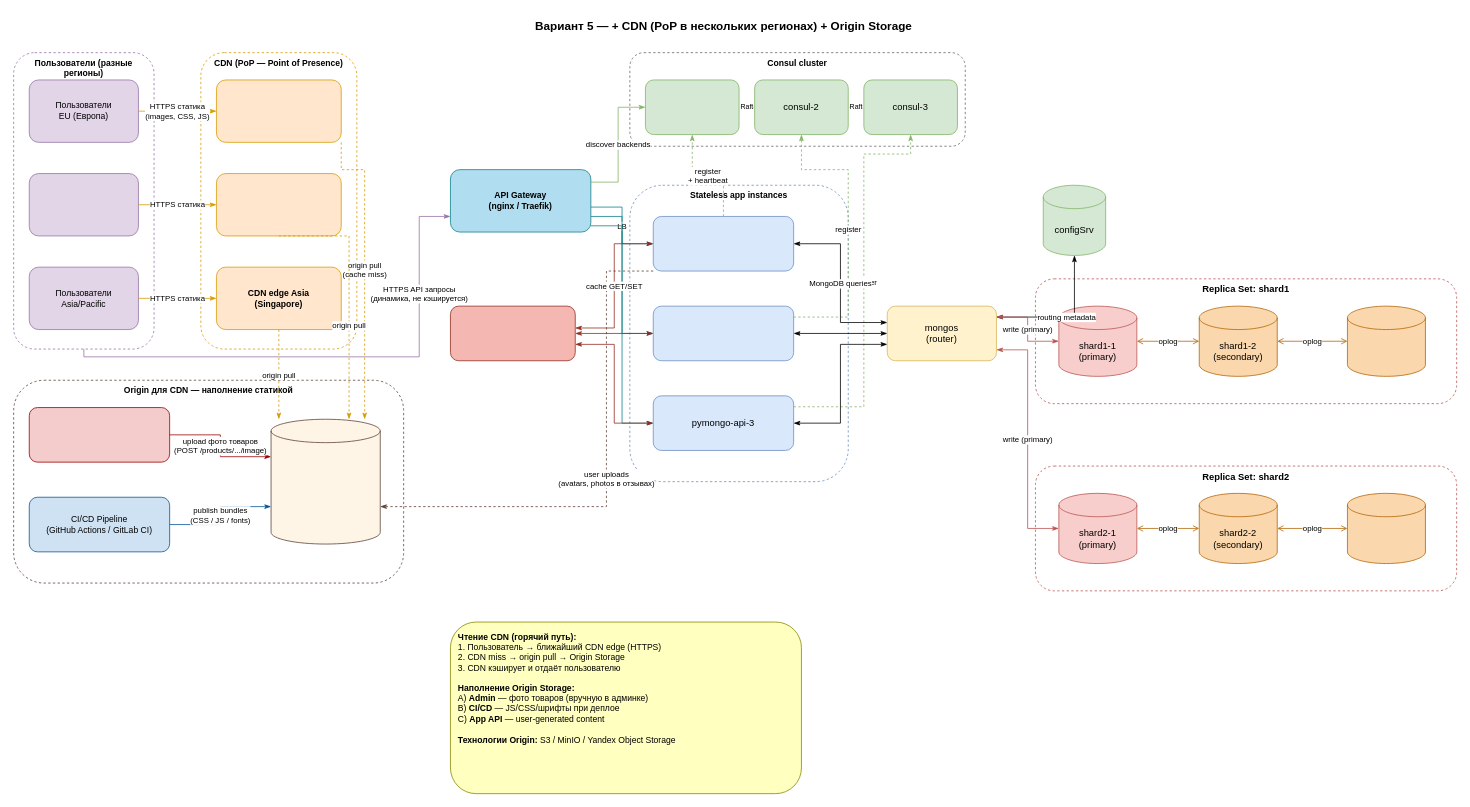
This 1470x807 diagram has some shape labels left out. The centre of each missing label's shape, as x and y in pixels:
"Admin Panel (оператор магазина)" goes at point 99,434.
"CDN edge EU (Frankfurt)" goes at point 278,110.
"CDN edge RU (Moscow)" goes at point 278,204.
"consul-1" goes at point 692,107.
"Origin Storage (S3 / MinIO bucket) статика магазина" goes at point 325,481.
"pymongo-api-1" goes at point 723,243.
"pymongo-api-2" goes at point 723,333.
"redis (cache)" goes at point 512,333.
"shard1-3 (secondary)" goes at point 1386,340.
"shard2-3 (secondary)" goes at point 1386,528.
"Пользователи RU (Россия)" goes at point 83,204.
